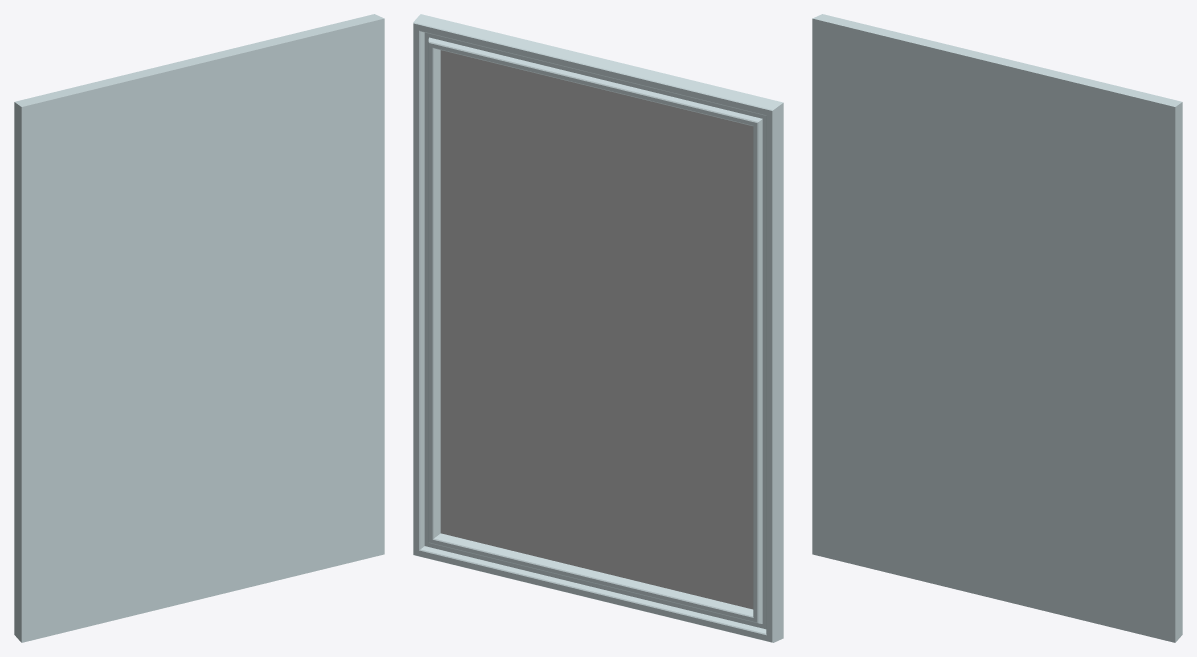
The model's file is aws_PortraitA_01_visual.DAE.
3 renders of one model, left to right at view 1: azimuth 30°, elevation 25°; view 2: azimuth 150°, elevation 25°; view 3: azimuth 330°, elevation 25°, orthographic.
Visible parts, largest first — view 1: aws_PortraitA_01_visual; view 2: aws_PortraitA_01_visual; view 3: aws_PortraitA_01_visual.
Part boxes in pixels (bbox=[...]): aws_PortraitA_01_visual: bbox=[14, 14, 384, 642]; aws_PortraitA_01_visual: bbox=[413, 14, 783, 642]; aws_PortraitA_01_visual: bbox=[812, 14, 1182, 642].
Bounding box in the file's own units: 49.04 × 2.15 × 69.18.
